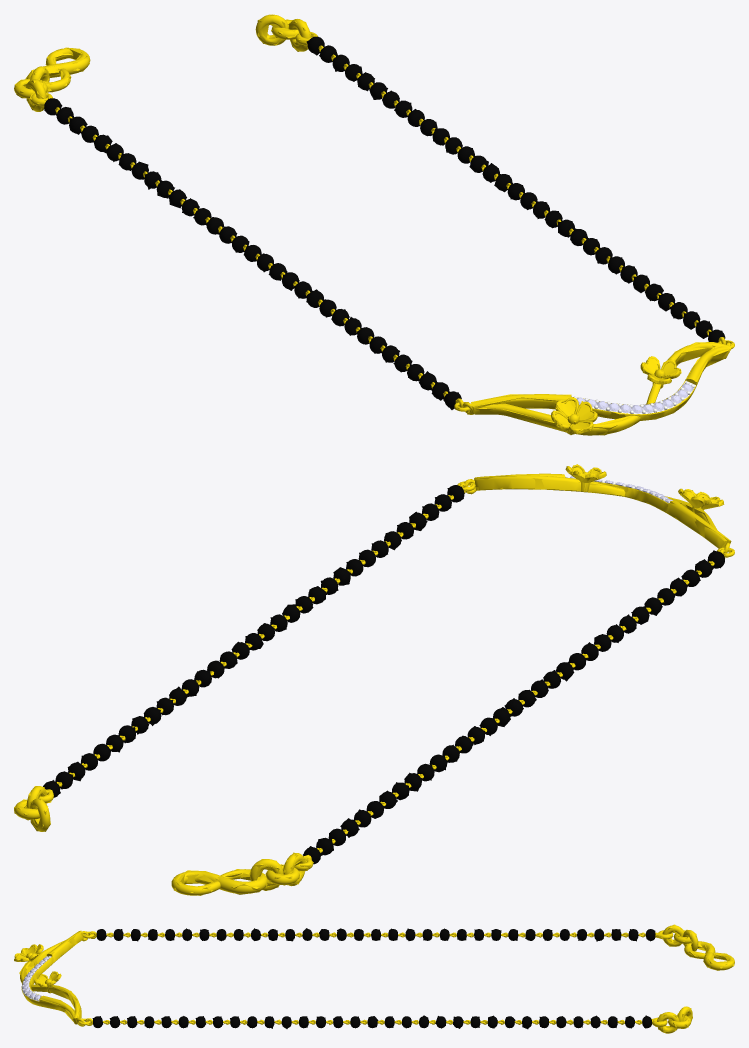
File: DPN-D000563859.glb
3 views of the same model, one above another, from view 1: azimuth 30°, elevation 25°; view 2: azimuth 150°, elevation 25°; view 3: azimuth 270°, elevation 25° (orthographic). The views are drawn at different scales.
Parts seen in each view (by area): view 1: highPolyMesh, lowPolyMesh; view 2: highPolyMesh, lowPolyMesh; view 3: highPolyMesh, lowPolyMesh.
Part boxes in pixels (left/top/right/bottom): highPolyMesh: left=14, top=14, right=734, bottom=435; lowPolyMesh: left=14, top=14, right=734, bottom=435; highPolyMesh: left=15, top=465, right=734, bottom=895; lowPolyMesh: left=14, top=464, right=734, bottom=895; highPolyMesh: left=14, top=925, right=734, bottom=1033; lowPolyMesh: left=14, top=924, right=734, bottom=1032.
Bounding box in the file's own units: 0.0394 × 0.00569 × 0.1268.
